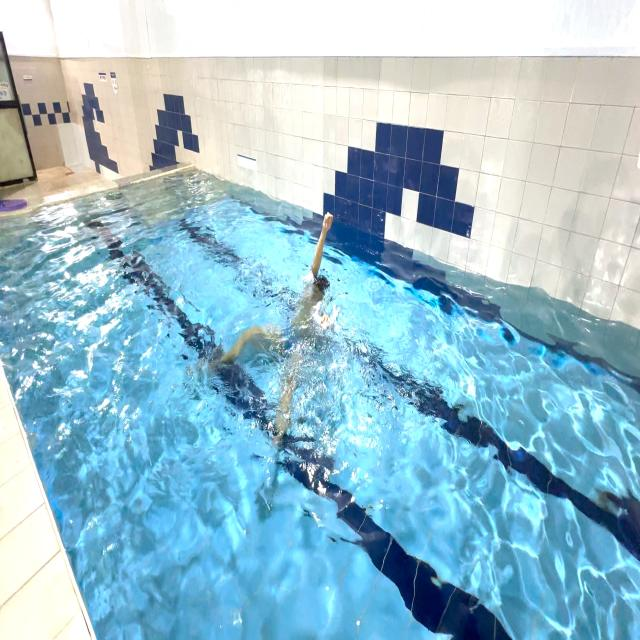Drowning: (194, 200, 360, 507)
